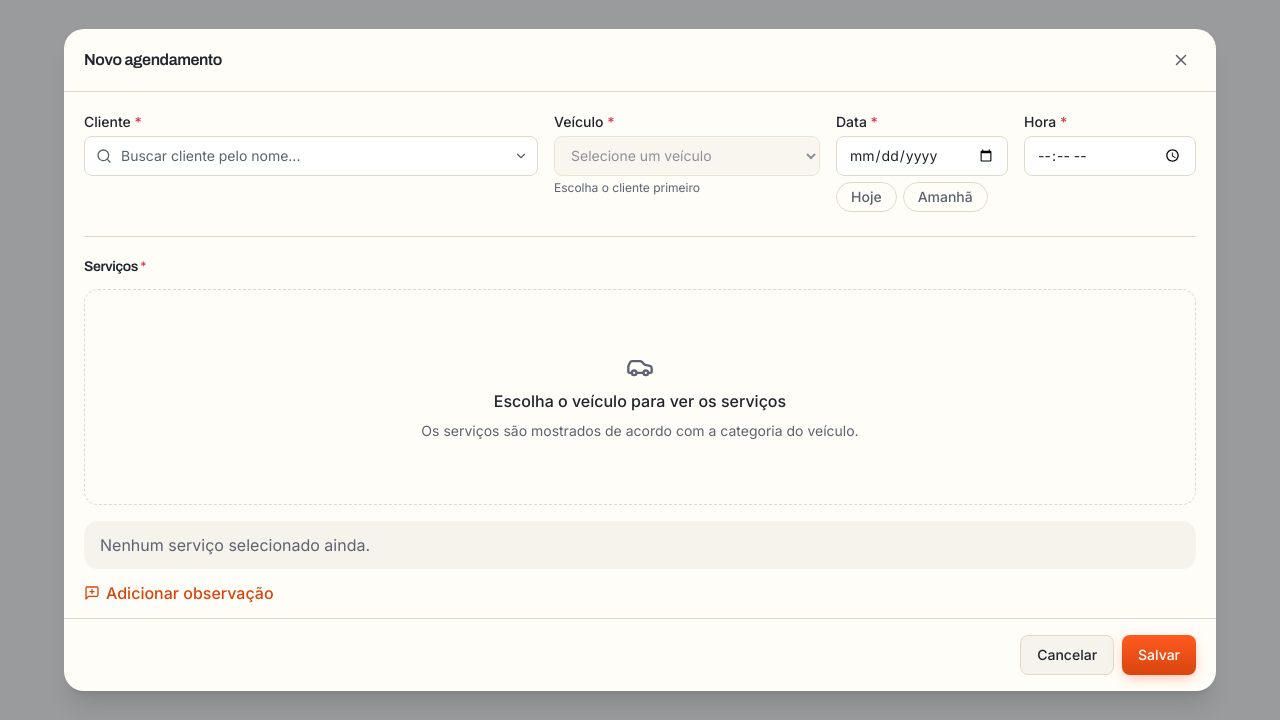
Test: AgendamentoFormModal › fills the date with the "Hoje" shortcut, keeping the default time
Click the button "Hoje": (866, 197) top-left (836, 182), bottom-right (897, 212)
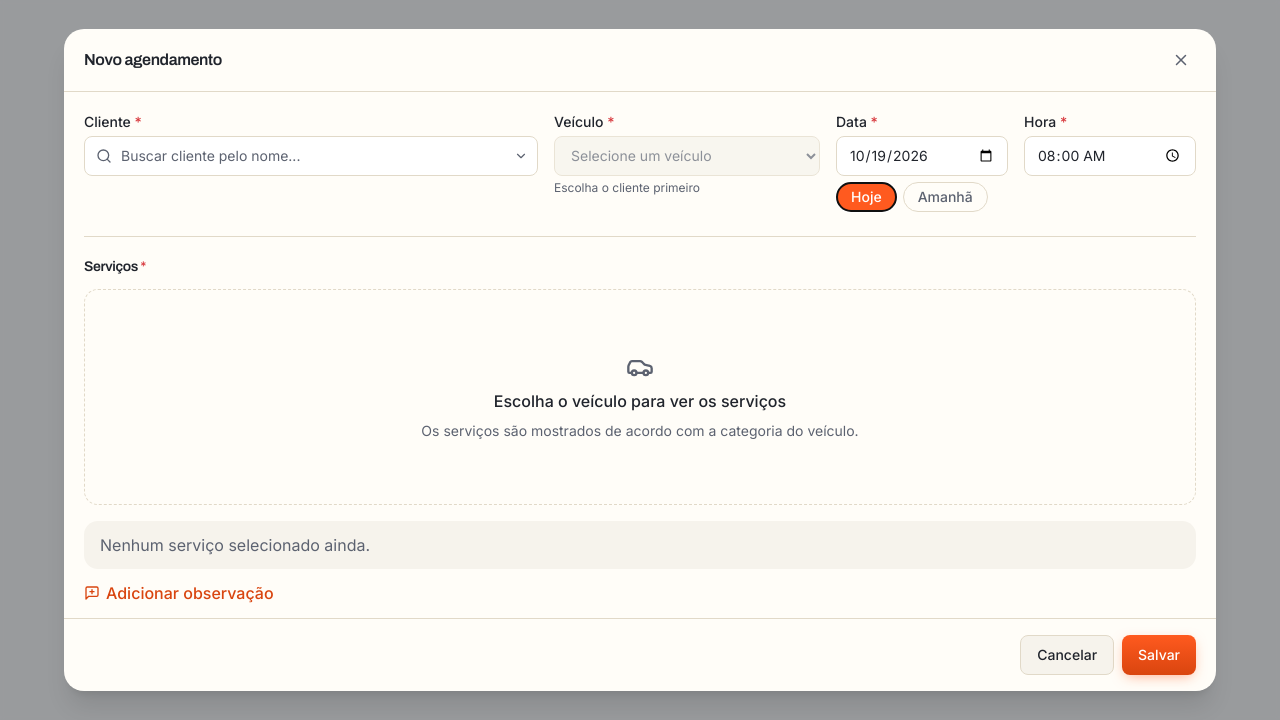
Result: the time field labelled "Hora *" holds "08:00" at top-left (1024, 136), bottom-right (1196, 176)
